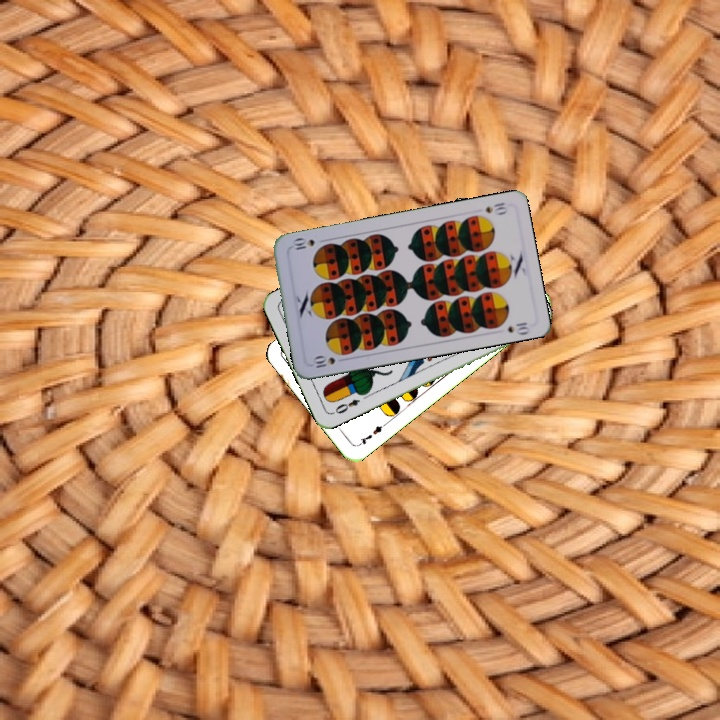E7: (354, 419, 389, 448)
EO: (328, 395, 362, 417)
S10: (309, 352, 348, 371), (481, 198, 509, 217)
